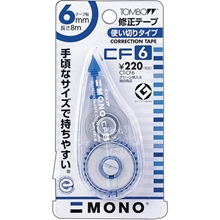Correction_fluid: (74, 47, 143, 201)
